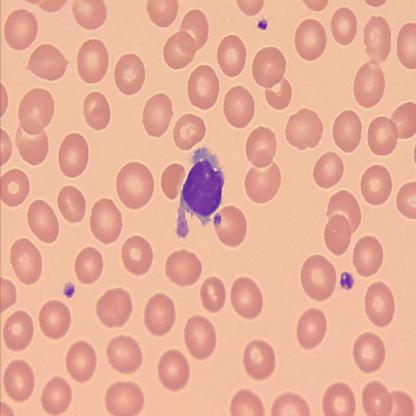Atypical lymphocyte: (176, 142, 226, 238)
